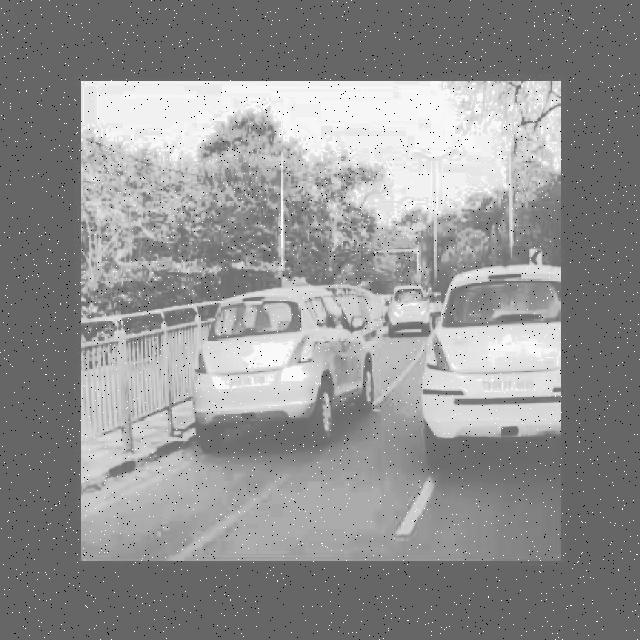Car: (197, 285, 377, 462), (425, 266, 567, 465)
